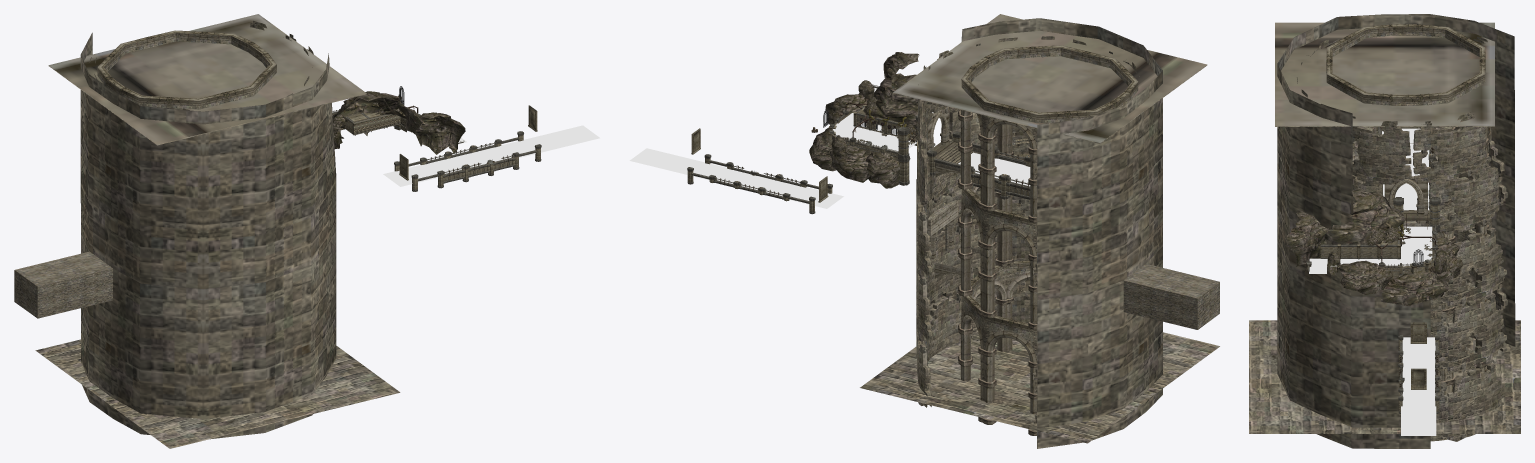
The model's file is stageProb.fbx.
3 views of the same model, side by side, from view 1: azimuth 30°, elevation 25°; view 2: azimuth 150°, elevation 25°; view 3: azimuth 270°, elevation 25° (orthographic). The views are drawn at different scales.
Visible parts, largest first — view 1: mapDungeon001, tower_body, inTower01, indungeon_d_01, bridge_platform, bidge_connet002, indungeon_d_005; view 2: mapDungeon001, tower_body, inTower01, indungeon_d_01, Group002, bridge_platform, indungeon_d_005, bidge_connet002, bridge, Floor, floor_crash_bridge; view 3: tower_body, mapDungeon001, indungeon_d_01, inTower01, bridge_platform, indungeon_d_005, Floor, bidge_connet002, floor_crash_bridge, Group002, Door001.
Part boxes in pixels (x1,y1,x2,y2): mapDungeon001: [14, 32, 345, 439]; tower_body: [35, 14, 400, 448]; inTower01: [97, 30, 276, 109]; indungeon_d_01: [332, 91, 465, 154]; bridge_platform: [383, 125, 599, 186]; bidge_connet002: [394, 131, 541, 191]; indungeon_d_005: [332, 105, 464, 148]; mapDungeon001: [908, 18, 1219, 448]; tower_body: [860, 14, 1219, 443]; inTower01: [958, 45, 1138, 329]; indungeon_d_01: [809, 52, 919, 188]; Group002: [958, 260, 1037, 435]; bridge_platform: [629, 148, 843, 208]; indungeon_d_005: [828, 84, 917, 185]; bidge_connet002: [687, 154, 832, 214]; bridge: [971, 147, 1030, 199]; Floor: [833, 88, 916, 151]; floor_crash_bridge: [958, 152, 1030, 186]; tower_body: [1249, 22, 1520, 441]; mapDungeon001: [1277, 14, 1515, 448]; indungeon_d_01: [1286, 188, 1462, 306]; inTower01: [1326, 24, 1489, 314]; bridge_platform: [1401, 337, 1436, 435]; indungeon_d_005: [1306, 197, 1440, 279]; Floor: [1309, 226, 1432, 273]; bidge_connet002: [1398, 322, 1439, 413]; floor_crash_bridge: [1383, 143, 1429, 210]; Group002: [1439, 267, 1487, 394]; Door001: [1411, 368, 1426, 389].
Size of what is drawn, in the model's own units: 277 by 152 by 113.
6 materials, 5 textured.
